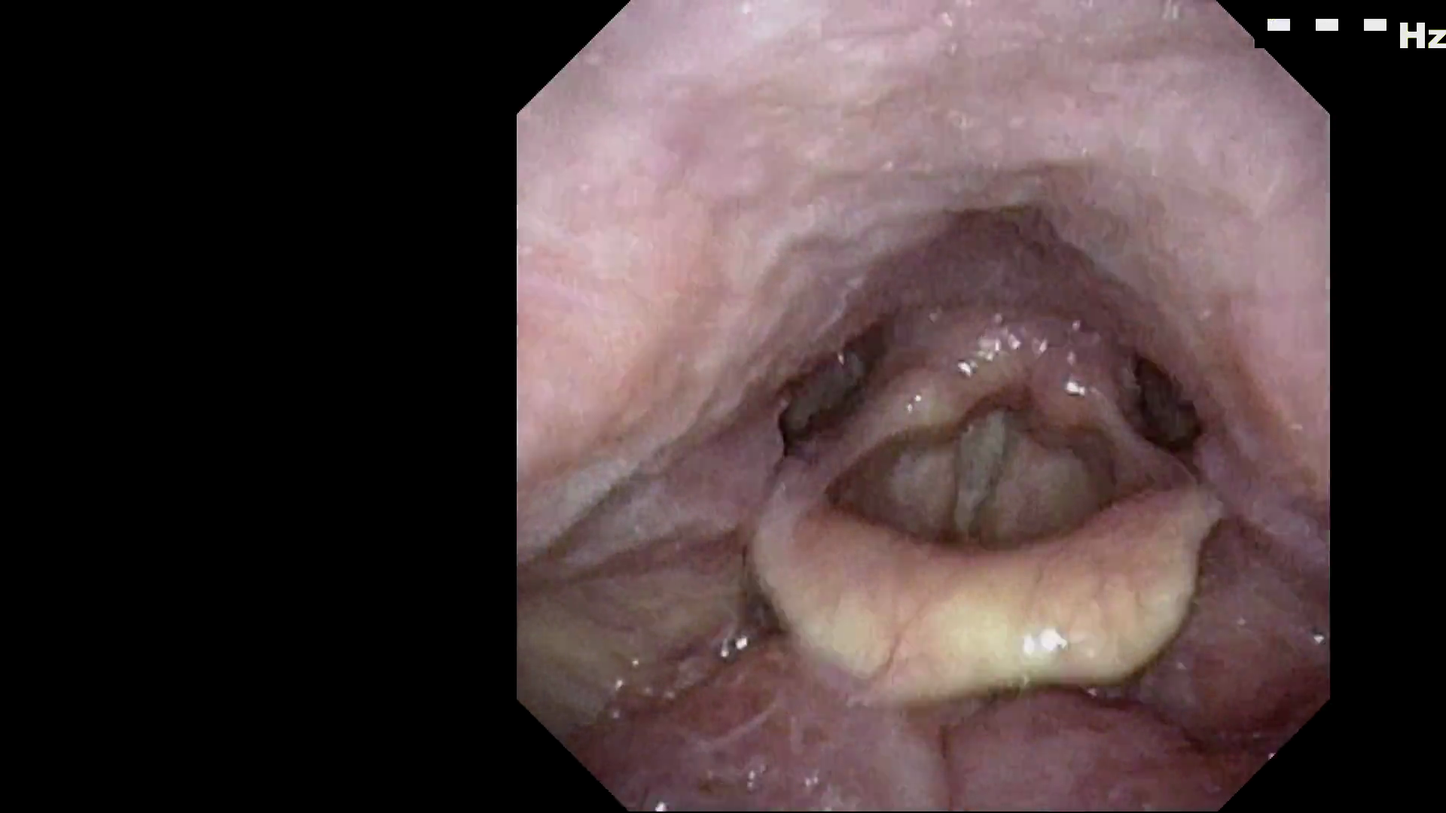epiglottis: (692, 458, 1274, 720)
trachea: (906, 368, 1052, 536)
